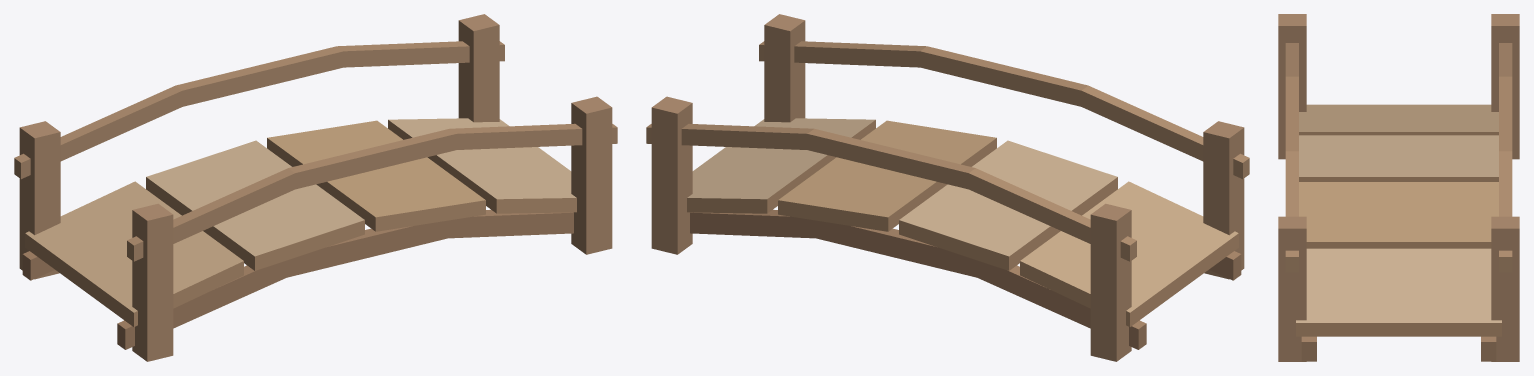
The picture shows the model from 3 angles, left to right: view 1: azimuth 30°, elevation 25°; view 2: azimuth 150°, elevation 25°; view 3: azimuth 270°, elevation 25°; orthographic projection. The views are drawn at different scales.
Visible parts, largest first — view 1: world; view 2: world; view 3: world.
Boxes of the visible parts, x1,y1,x2,y2 form: world: [14, 14, 617, 361]; world: [646, 14, 1249, 361]; world: [1278, 14, 1519, 361].
Bounding box in the file's own units: 5.6 × 1.65 × 2.56.
